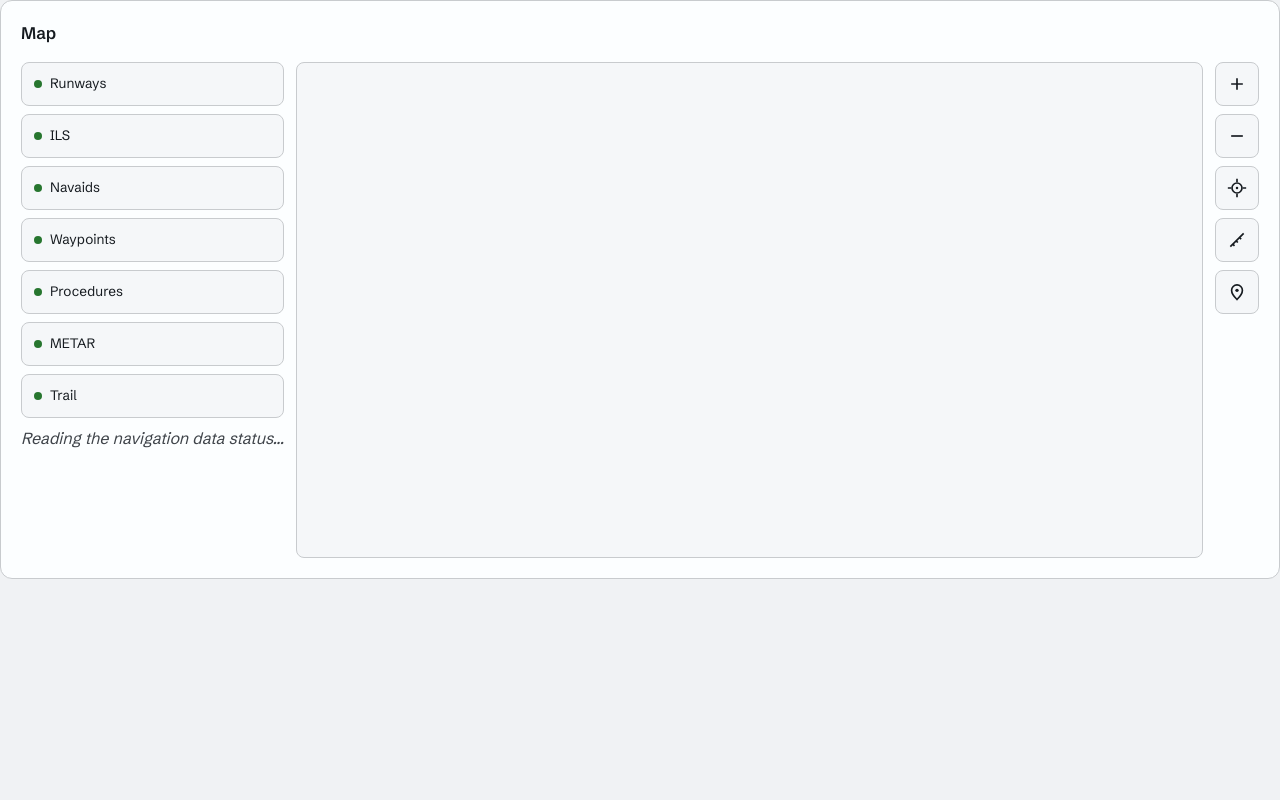
Test case: MapPanel › a layer toggle flips exactly its overlay in the store
The width and height of the screenshot is (1280, 800).
Click the button "ILS": (38, 136) [21, 114, 284, 158]
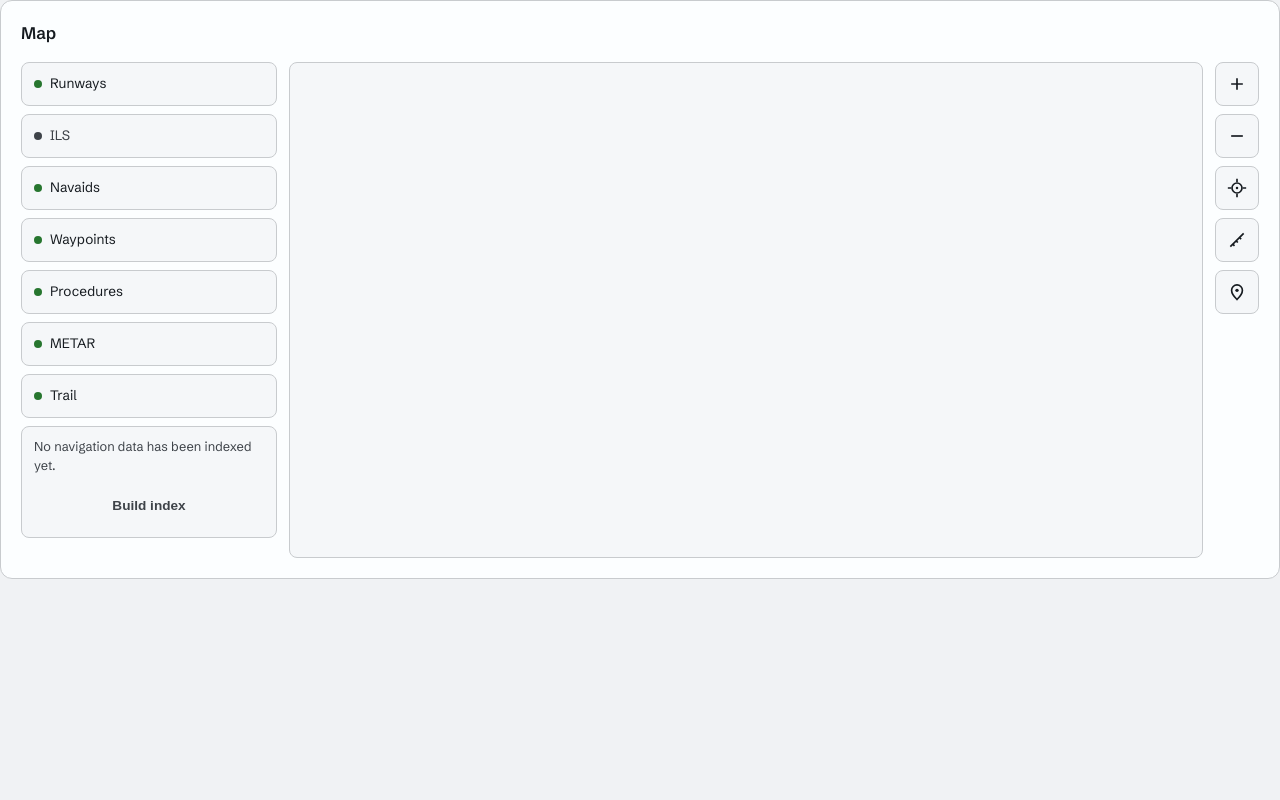
Expected: the text "No navigation data has been indexed yet." is shown, [34, 437, 264, 475]
